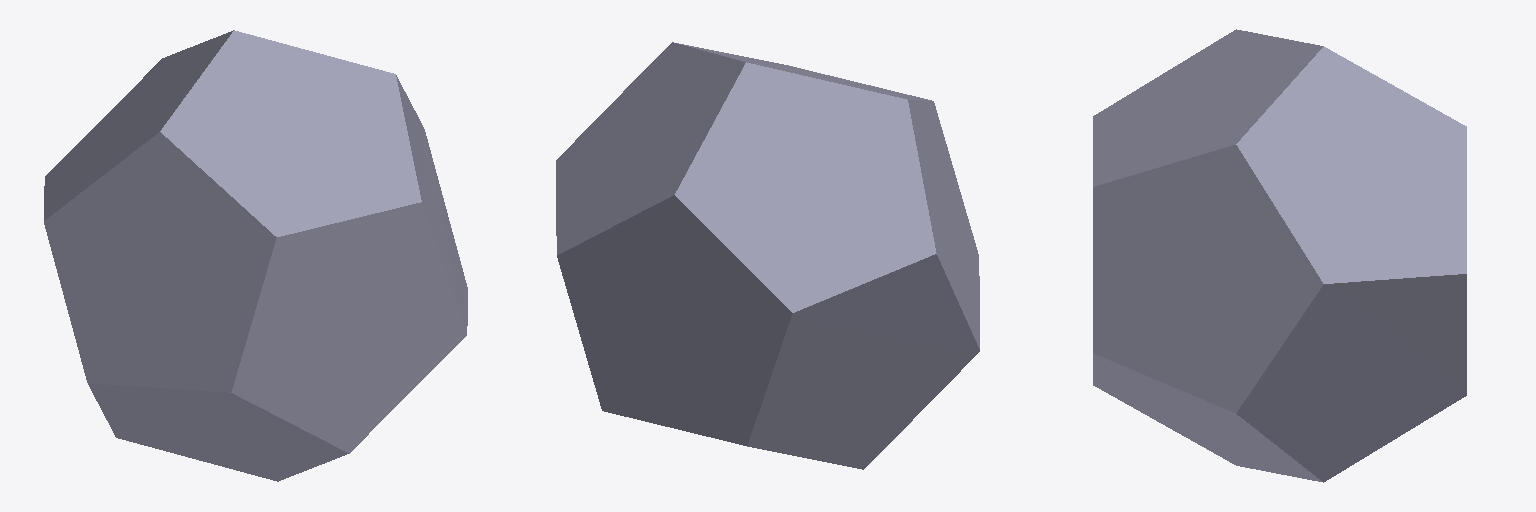
File: dodo.obj
3 renders of one model, left to right at view 1: azimuth 30°, elevation 25°; view 2: azimuth 150°, elevation 25°; view 3: azimuth 270°, elevation 25°, orthographic.
Visible parts, largest first — view 1: Shape_IndexedFaceSet_Shape_IndexedFaceSet.002; view 2: Shape_IndexedFaceSet_Shape_IndexedFaceSet.002; view 3: Shape_IndexedFaceSet_Shape_IndexedFaceSet.002.
Boxes of the visible parts, box(x1,y1,x2,y2) form: Shape_IndexedFaceSet_Shape_IndexedFaceSet.002: box(44, 30, 467, 481); Shape_IndexedFaceSet_Shape_IndexedFaceSet.002: box(556, 42, 979, 469); Shape_IndexedFaceSet_Shape_IndexedFaceSet.002: box(1093, 29, 1466, 482).
Bounding box in the file's own units: 462 × 486 × 392.